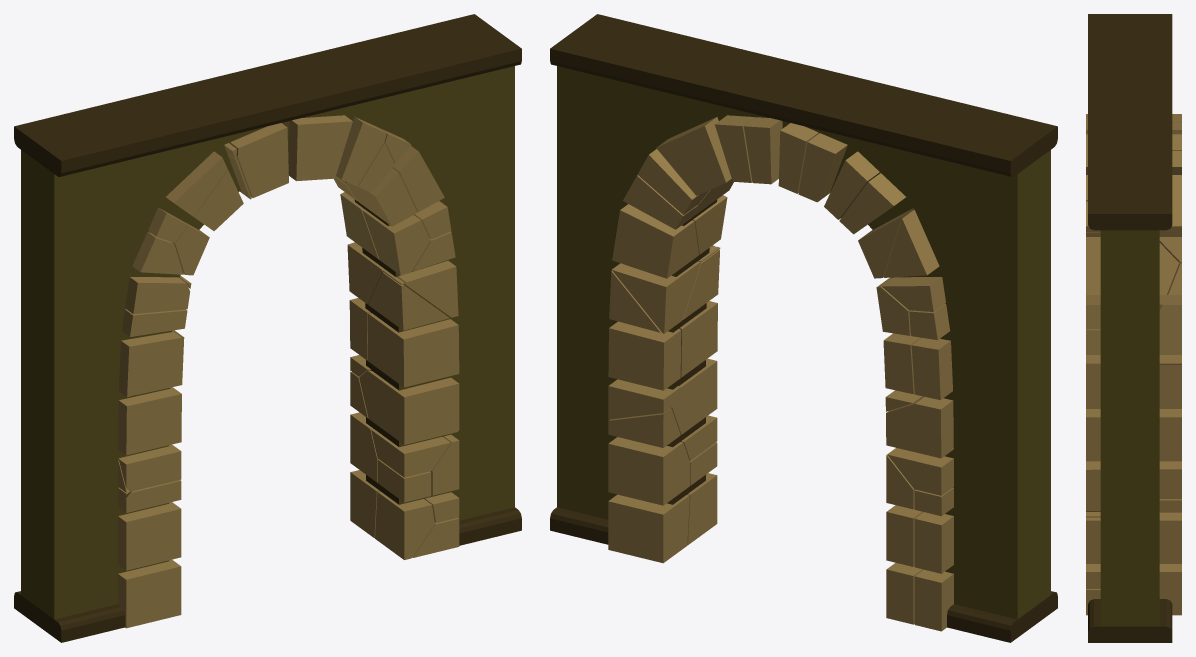
File: WallRockArc.fbx
3 renders of one model, left to right at view 1: azimuth 30°, elevation 25°; view 2: azimuth 150°, elevation 25°; view 3: azimuth 270°, elevation 25°, orthographic. The views are drawn at different scales.
Visible parts, largest first — view 1: Wall, RockArc; view 2: Wall, RockArc; view 3: Wall, RockArc.
Part boxes in pixels (x1,y1,x2,y2): Wall: [14, 14, 521, 642]; RockArc: [118, 115, 459, 628]; Wall: [550, 14, 1057, 642]; RockArc: [608, 115, 953, 631]; Wall: [1088, 14, 1172, 642]; RockArc: [1086, 114, 1181, 615].
Size of the model in its own units: 400 by 400 by 81.12.
